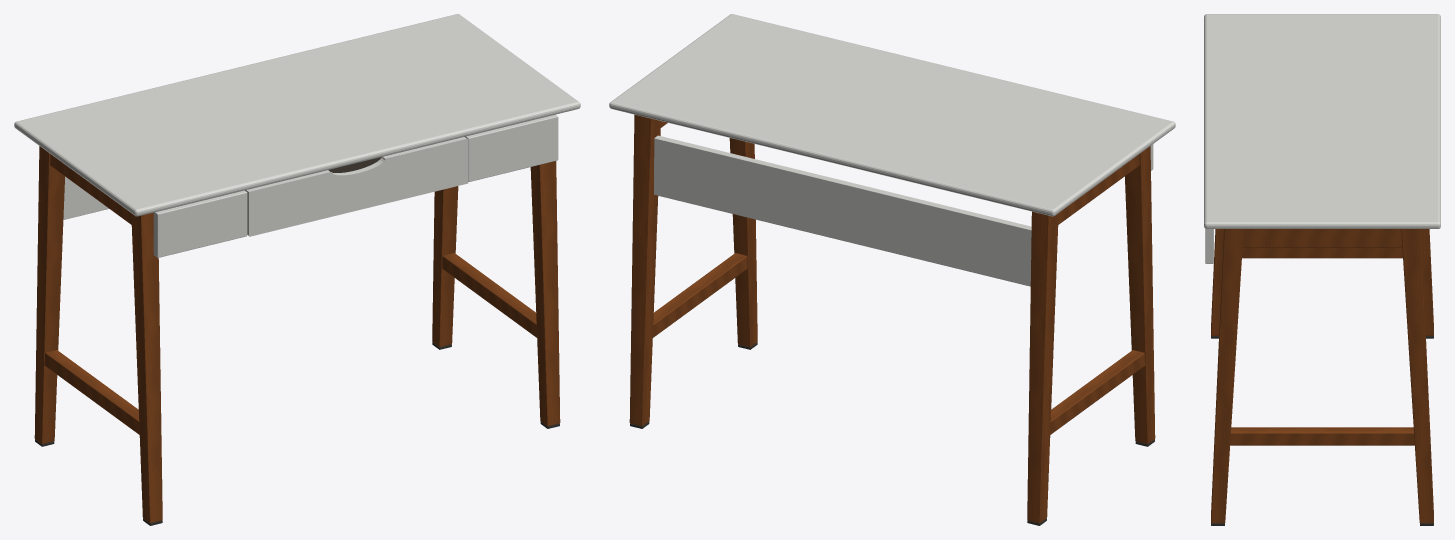
The model's file is nathan-james-telos-desk.glb.
The picture shows the model from 3 angles, left to right: view 1: azimuth 30°, elevation 25°; view 2: azimuth 150°, elevation 25°; view 3: azimuth 270°, elevation 25°; orthographic projection. The views are drawn at different scales.
Parts seen in each view (by area): view 1: Floating white desktop, Single pull-out drawer with finger notch, Rubberwood splayed leg, Rubberwood splayed leg.001, Rubberwood splayed leg.002, Fixed white front apron, Fixed white front apron.001, Rubberwood splayed leg.003, Side lower stretcher, Side lower stretcher.001, Rear white modesty panel, Side upper rail; view 2: Floating white desktop, Rear white modesty panel, Rubberwood splayed leg.001, Rubberwood splayed leg.003, Rubberwood splayed leg, Rubberwood splayed leg.002, Side lower stretcher, Side lower stretcher.001, Side upper rail; view 3: Floating white desktop, Rubberwood splayed leg.002, Rubberwood splayed leg.003, Side lower stretcher.001, Side upper rail.001, Side lower stretcher, Rubberwood splayed leg, Rubberwood splayed leg.001, Fixed white front apron.001.
Boxes of the visible parts, x1,y1,x2,y2 form: Floating white desktop: [14, 14, 580, 216]; Single pull-out drawer with finger notch: [245, 137, 468, 236]; Rubberwood splayed leg: [131, 212, 162, 523]; Rubberwood splayed leg.001: [34, 146, 64, 444]; Rubberwood splayed leg.002: [530, 161, 560, 426]; Fixed white front apron: [153, 190, 247, 257]; Fixed white front apron.001: [465, 114, 558, 181]; Rubberwood splayed leg.003: [432, 186, 458, 347]; Side lower stretcher: [44, 350, 139, 434]; Side lower stretcher.001: [442, 253, 536, 337]; Rear white modesty panel: [63, 176, 108, 219]; Side upper rail: [50, 154, 131, 224]; Floating white desktop: [609, 14, 1175, 216]; Rear white modesty panel: [654, 135, 1031, 286]; Rubberwood splayed leg.001: [1027, 211, 1058, 523]; Rubberwood splayed leg.003: [629, 114, 660, 426]; Rubberwood splayed leg: [1125, 146, 1155, 444]; Rubberwood splayed leg.002: [729, 138, 757, 347]; Side lower stretcher: [1050, 350, 1145, 434]; Side lower stretcher.001: [653, 253, 747, 337]; Side upper rail: [1058, 154, 1139, 224]; Floating white desktop: [1204, 14, 1440, 228]; Rubberwood splayed leg.002: [1211, 229, 1243, 523]; Rubberwood splayed leg.003: [1401, 229, 1433, 523]; Side lower stretcher.001: [1230, 427, 1414, 445]; Side upper rail.001: [1242, 229, 1402, 247]; Side lower stretcher: [1242, 248, 1402, 258]; Rubberwood splayed leg: [1211, 229, 1223, 335]; Rubberwood splayed leg.001: [1421, 229, 1433, 335]; Fixed white front apron.001: [1205, 229, 1213, 263].
Bounding box in the file's own units: 1.07 × 0.7366 × 0.508.
Materials: 4 (1 with a texture image).
